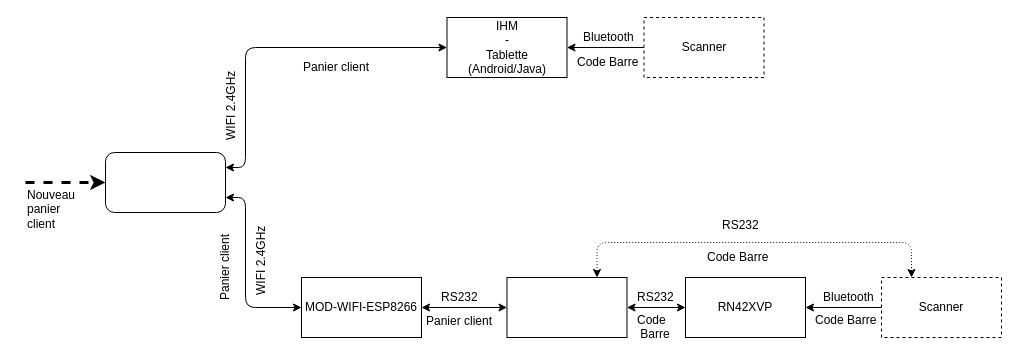
This 1019x360 diagram has some shape labels left out. Each missing label, with the centre of its shape:
"IHM - STM32 [Bracelet] (FreeRTOS/C++)" goes at (566,307).
"Serveur de commande - PC Linux" goes at (165,182).
